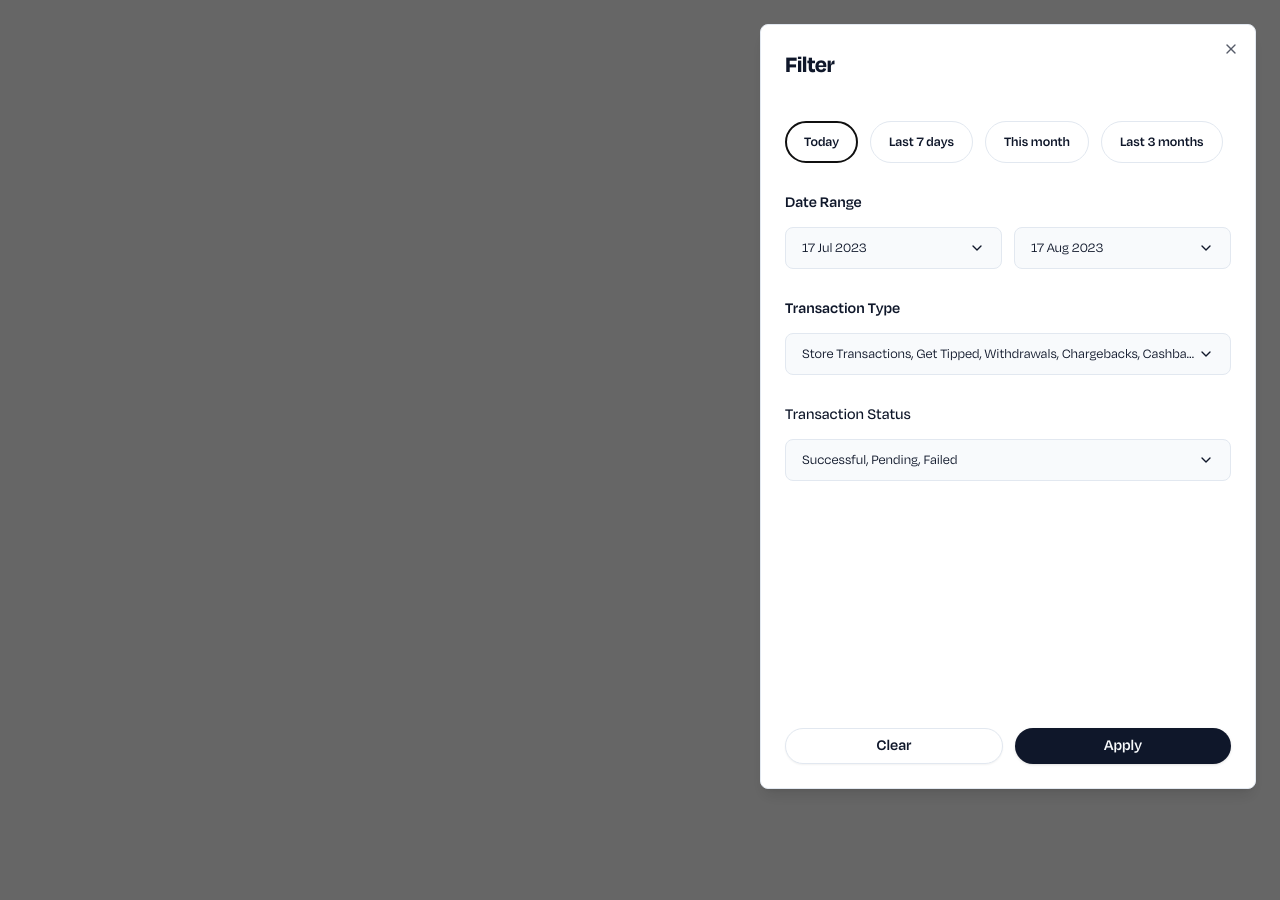
Test: Apply button is disabled when no filters are selected
The image size is (1280, 900).
Click the button "Clear". click: (894, 746)
box: [785,728,1003,764]
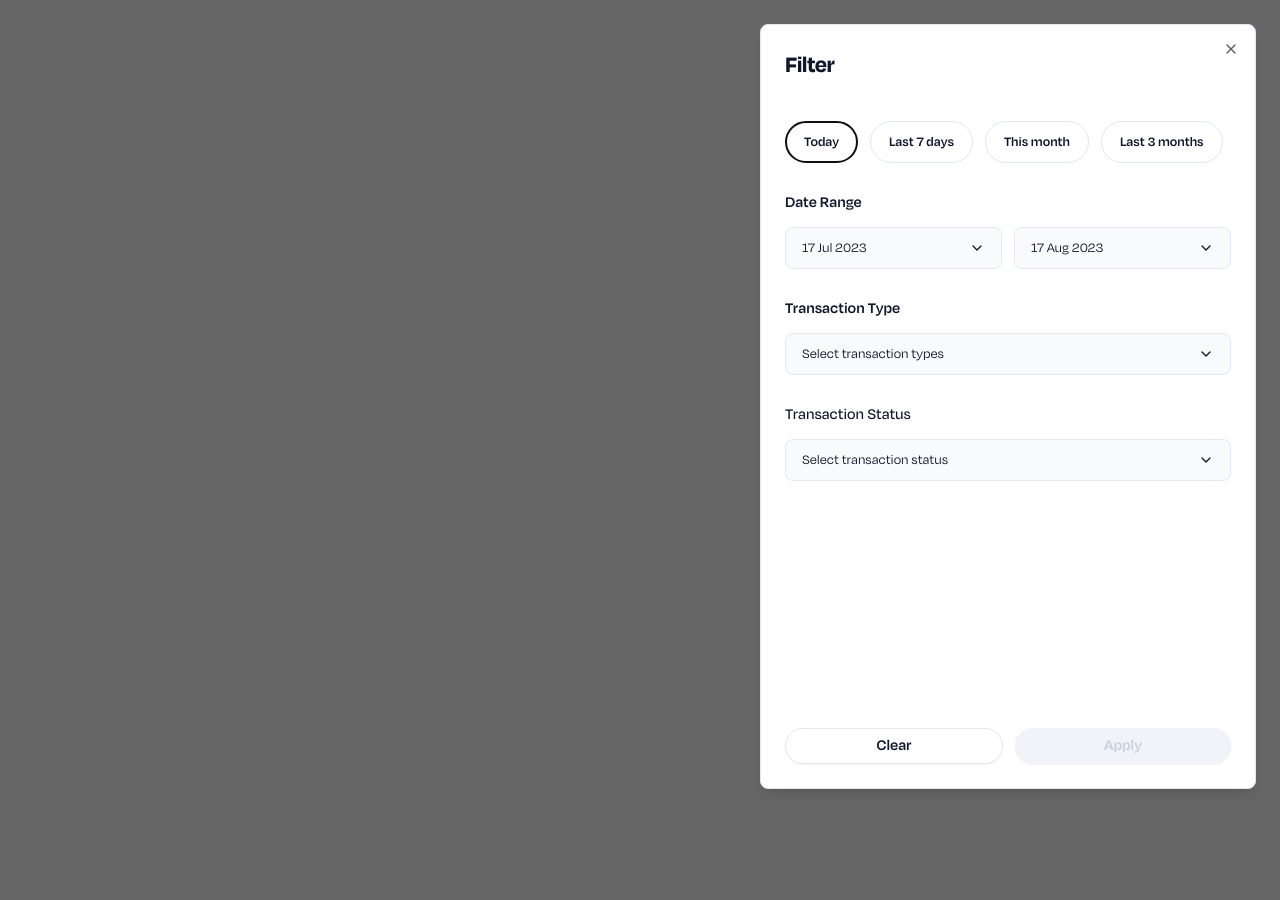
Expected: the button "Apply" is disabled, [1015,728,1231,764]
